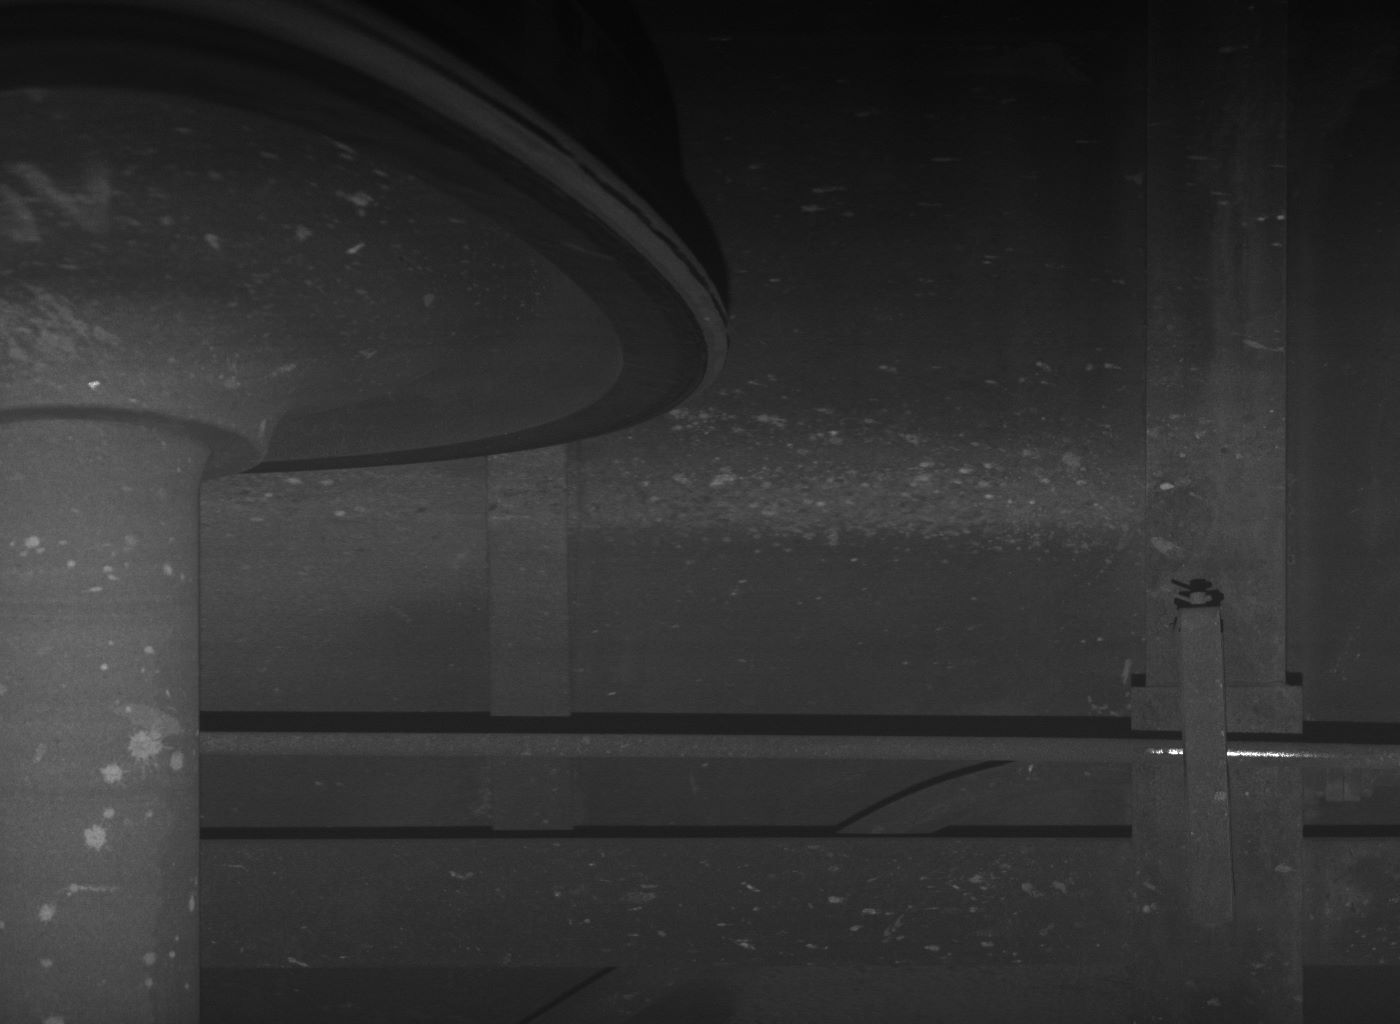normal: (1173, 591, 1240, 925)
